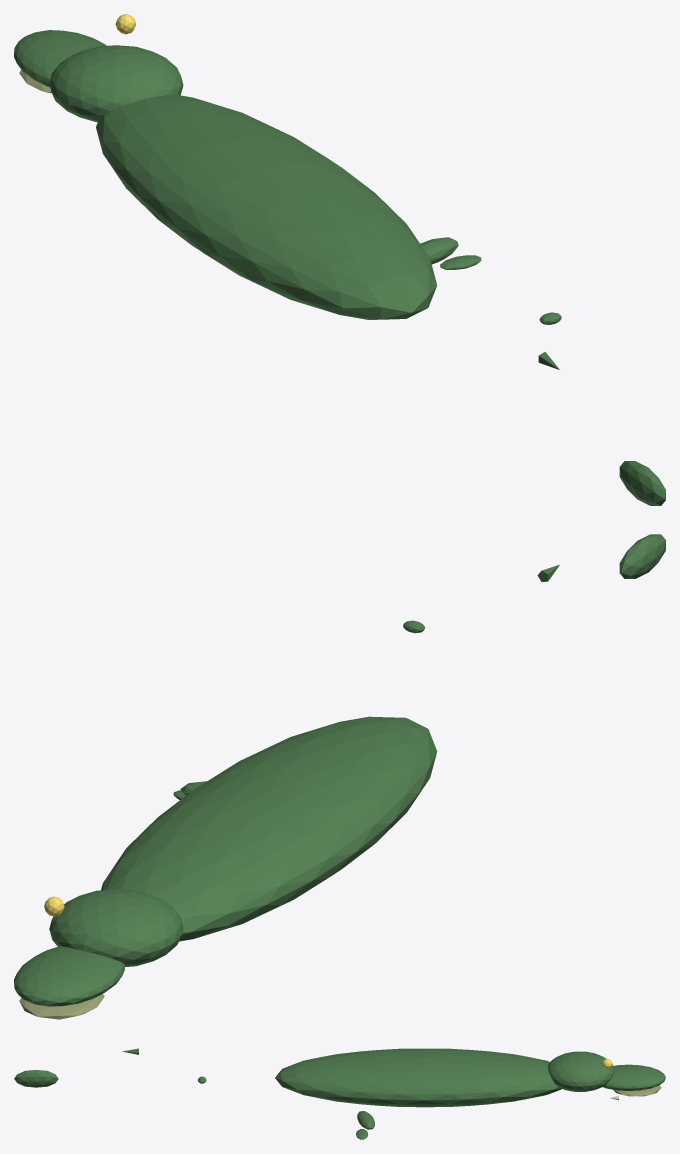
Rendered from amazon_alligator.glb.
3 renders of one model, top to bottom at view 1: azimuth 30°, elevation 25°; view 2: azimuth 150°, elevation 25°; view 3: azimuth 270°, elevation 25°, orthographic. The views are drawn at different scales.
Parts seen in each view (by area): view 1: body, head, snout, tail_segment; view 2: body, head, snout, tail_segment, lower_jaw; view 3: body, head, snout, tail_segment, lower_jaw, leg.
Part boxes in pixels (box(x1,y1,x2,y2)): body: box(96, 94, 437, 319); head: box(49, 45, 183, 122); snout: box(14, 30, 106, 87); tail_segment: box(619, 461, 665, 505); body: box(101, 716, 437, 941); head: box(49, 889, 183, 966); snout: box(14, 946, 124, 1006); tail_segment: box(619, 534, 665, 578); lower_jaw: box(19, 994, 104, 1019); body: box(275, 1048, 561, 1107); head: box(548, 1051, 614, 1091); snout: box(603, 1064, 665, 1090); tail_segment: box(14, 1070, 58, 1087); lower_jaw: box(613, 1085, 661, 1096); leg: box(357, 1111, 374, 1129).
Bounding box in the file's own units: 1.5 × 0.6172 × 6.73.
